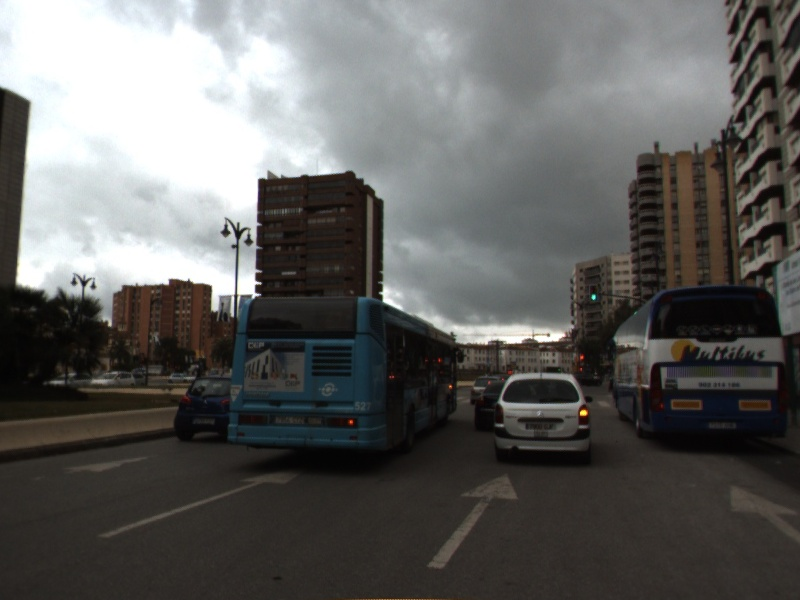STRAIGHT: (96, 464, 312, 541), (423, 470, 522, 572), (726, 481, 800, 546)
